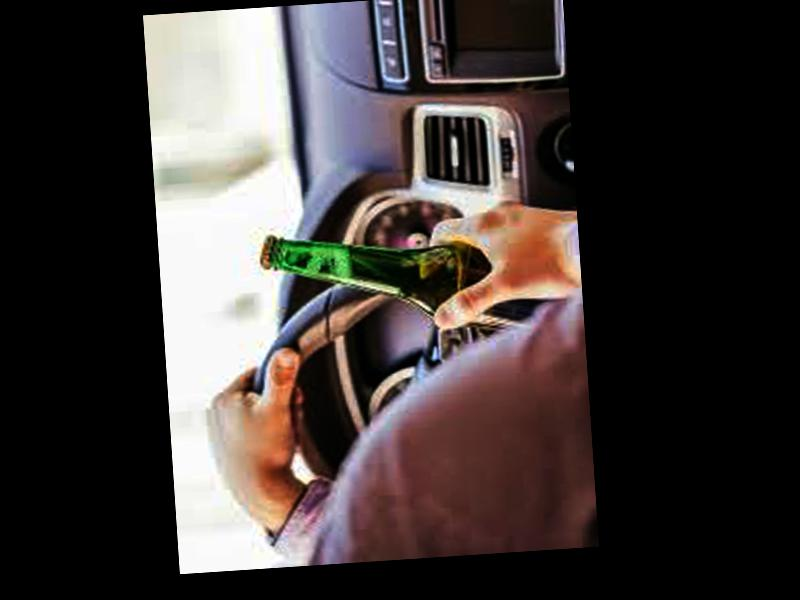Beer: (256, 216, 552, 344)
